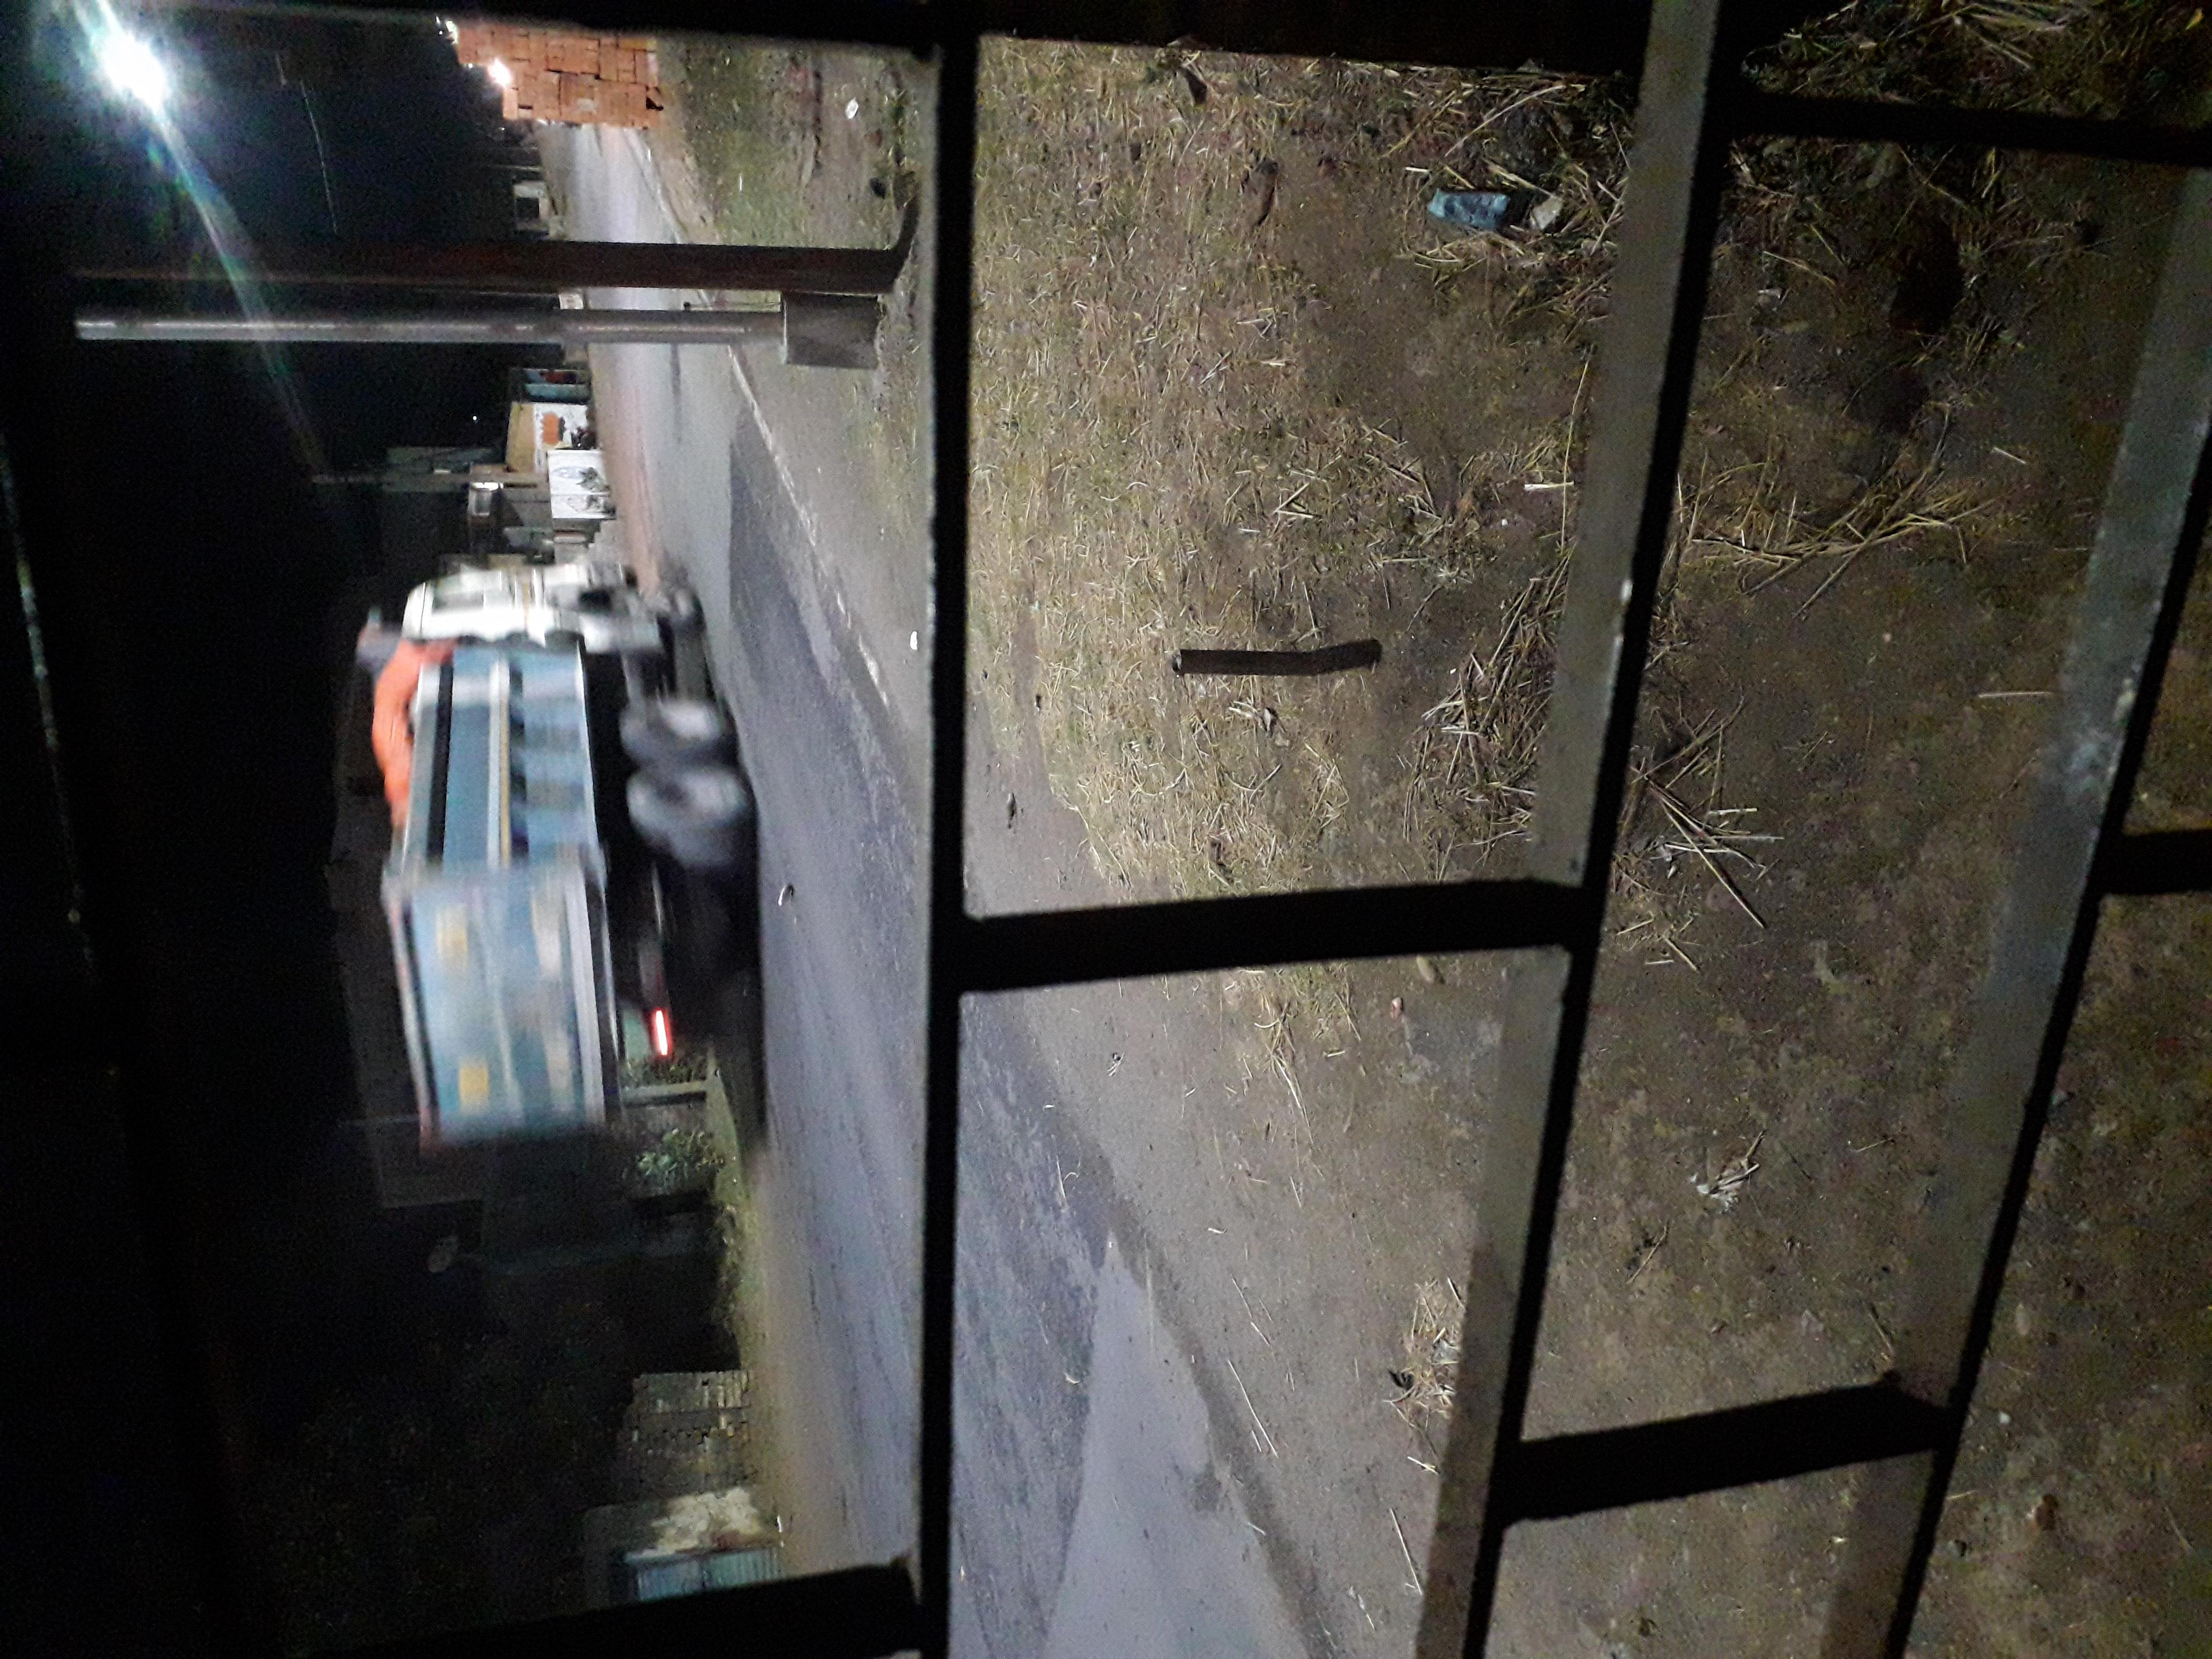Truck: (658, 251, 1548, 566)
